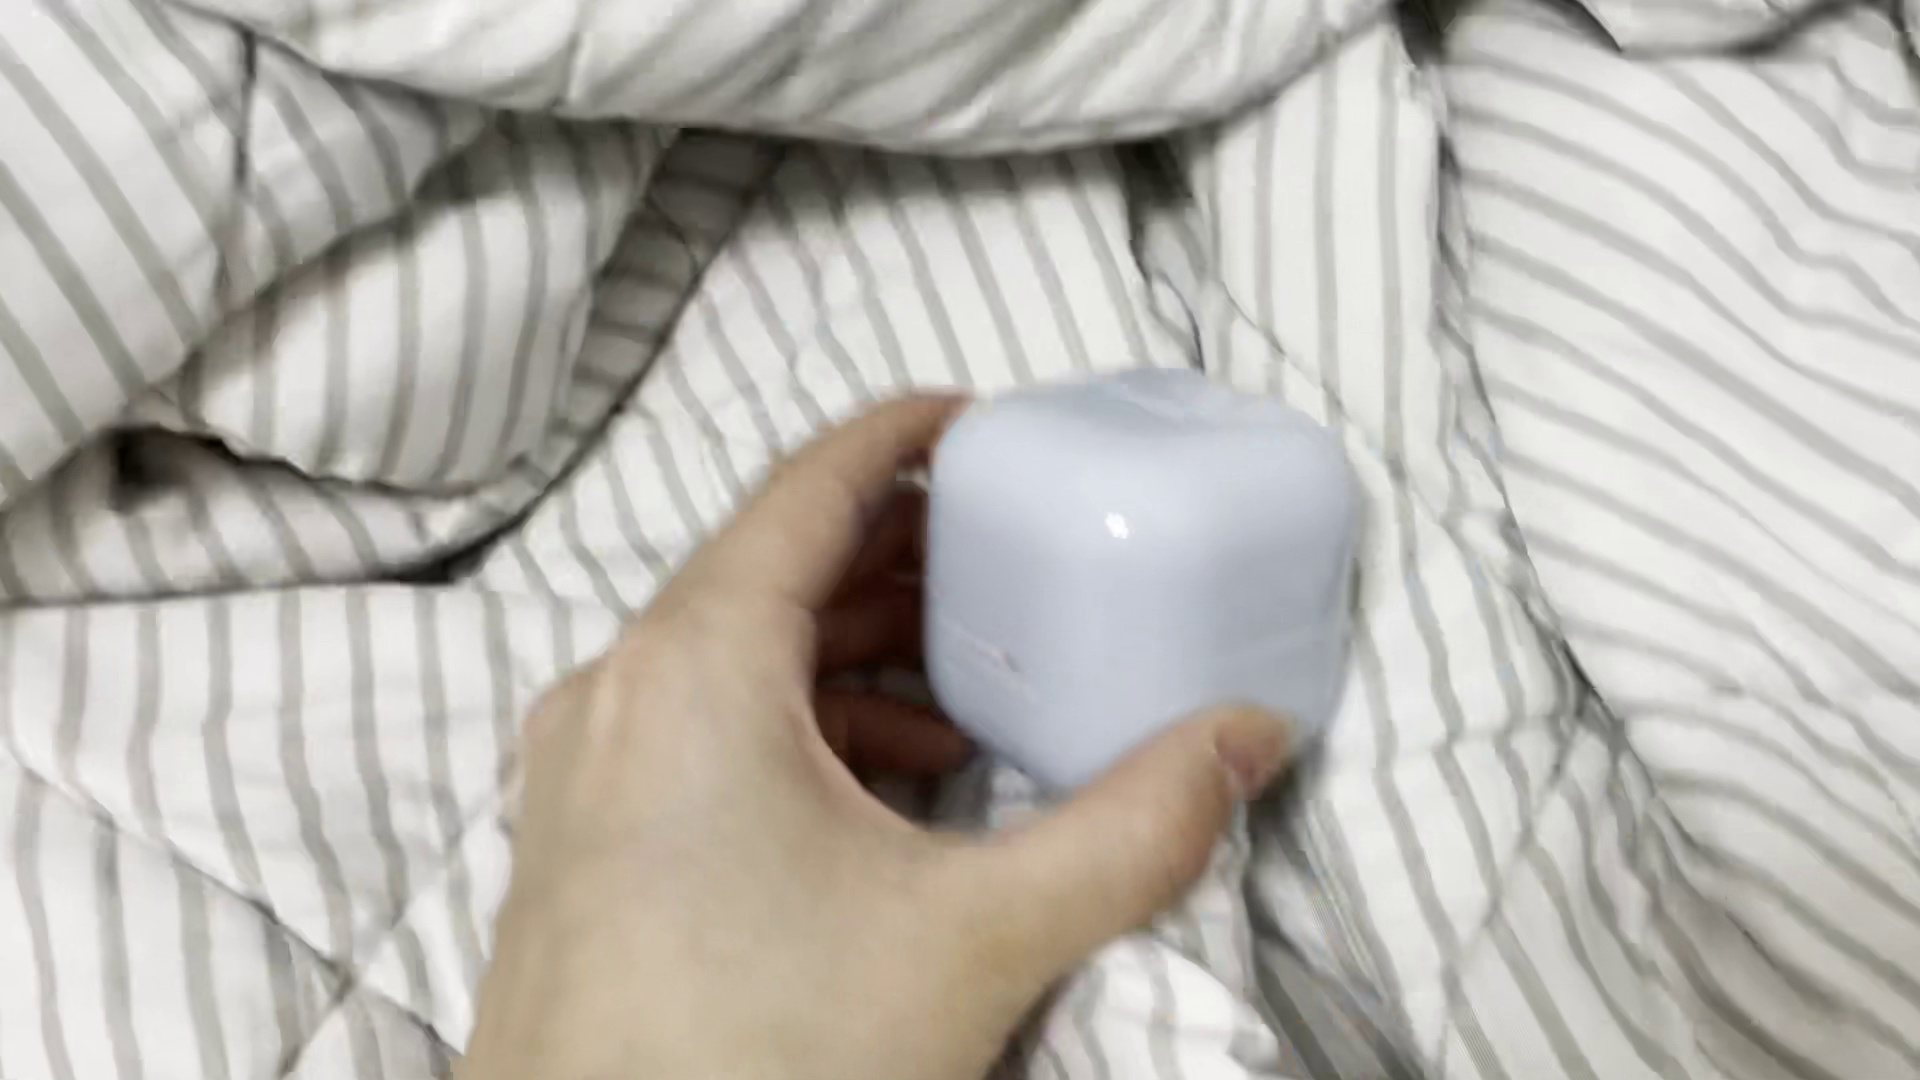cream: (928, 364, 1354, 804)
